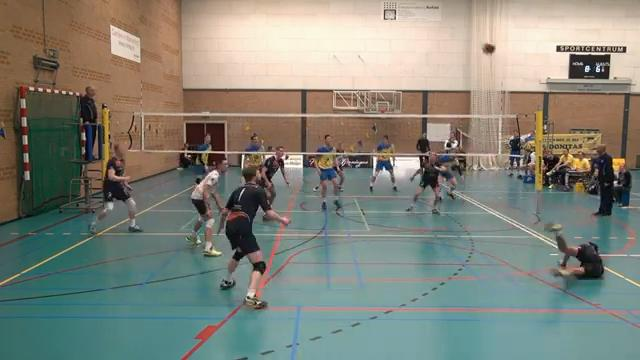difesa: (541, 221, 609, 284)
